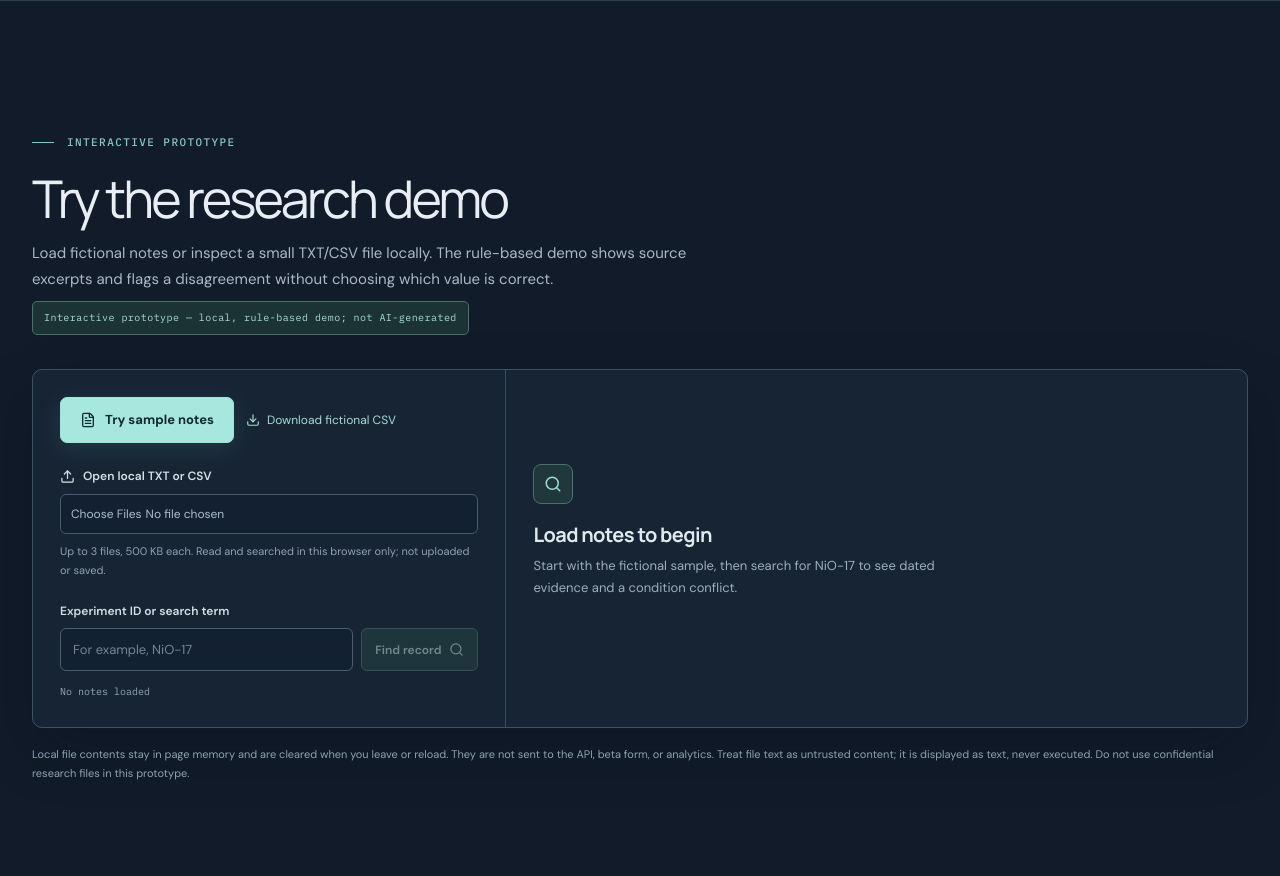
Test: course evaluation cases › Typical 1: sample notes return source-linked, dated evidence
The width and height of the screenshot is (1280, 876).
What coordinates should you click on to do the following:
click the button with test id "button-load-sample-notes"
I would click on:
 (147, 420)
Its box is [60, 396, 234, 443].
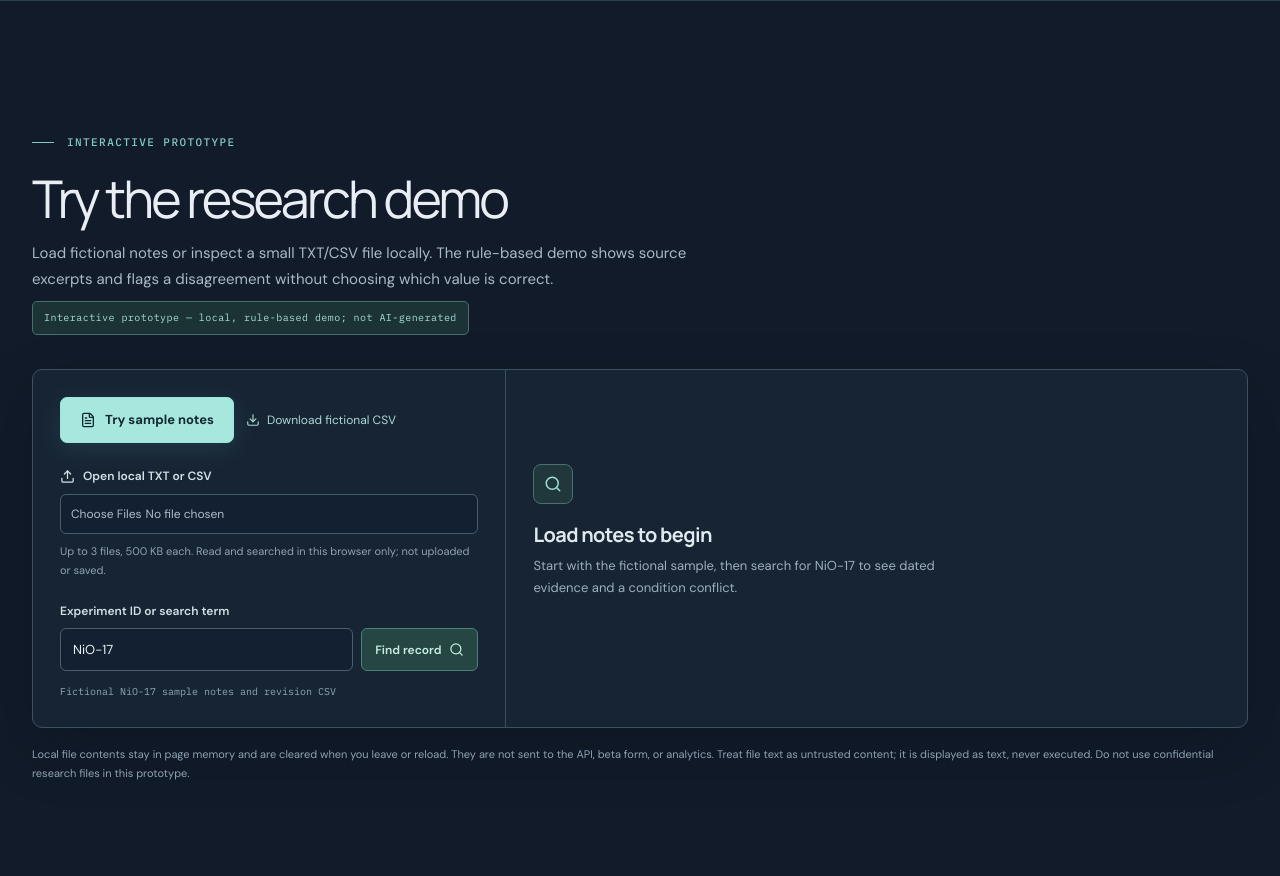
What coordinates should you click on to do the following:
click the button with test id "button-find-record"
I would click on:
 (420, 650)
Its box is [361, 628, 478, 671].
(page scrolled)
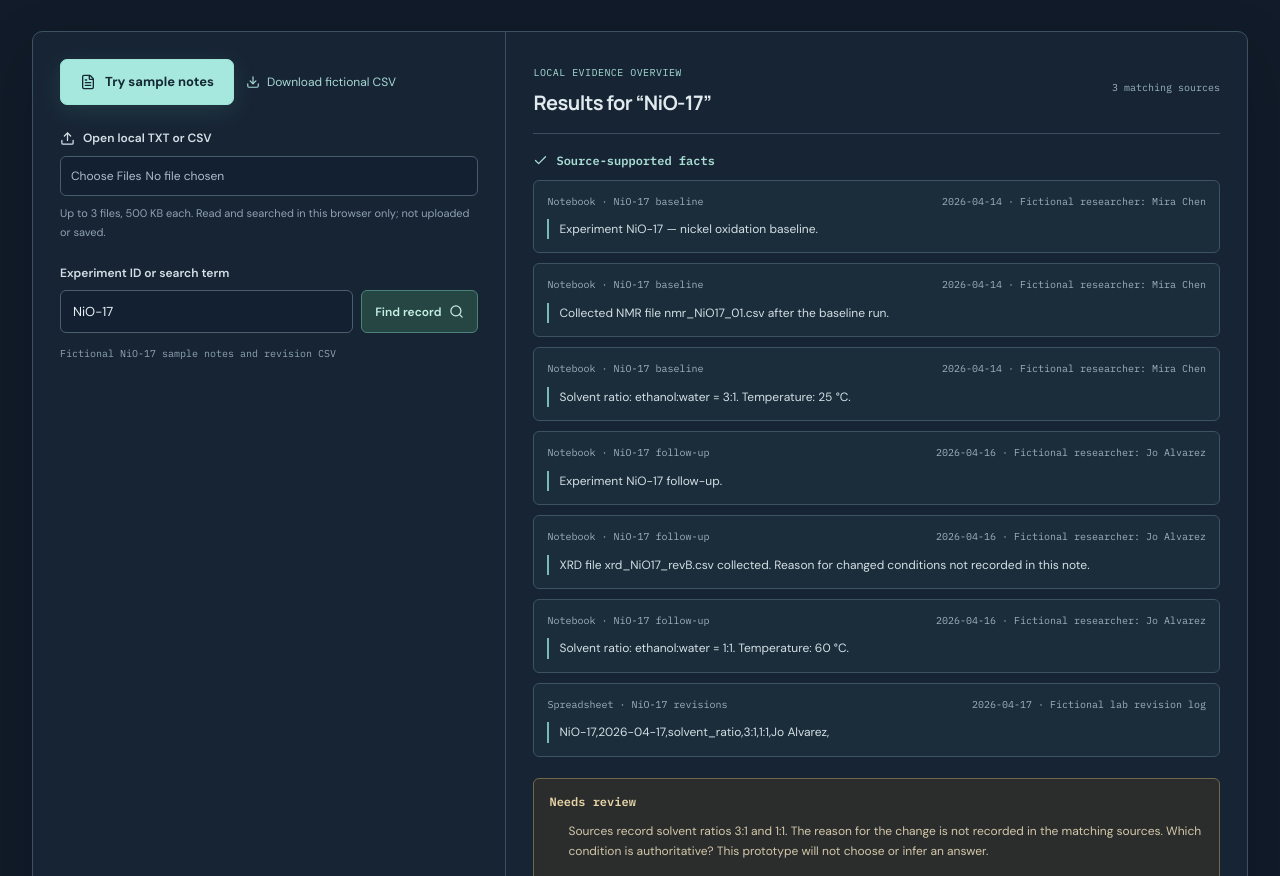
Check: the element with test id "panel-evidence-overview" shows "Notebook · NiO-17 baseline", box [548, 194, 704, 208]
Check: the element with test id "panel-evidence-overview" shows "2026-04-14", box [942, 194, 1002, 208]
Check: the element with test id "panel-evidence-overview" shows "Fictional researcher: Mira Chen", box [1020, 194, 1206, 208]
